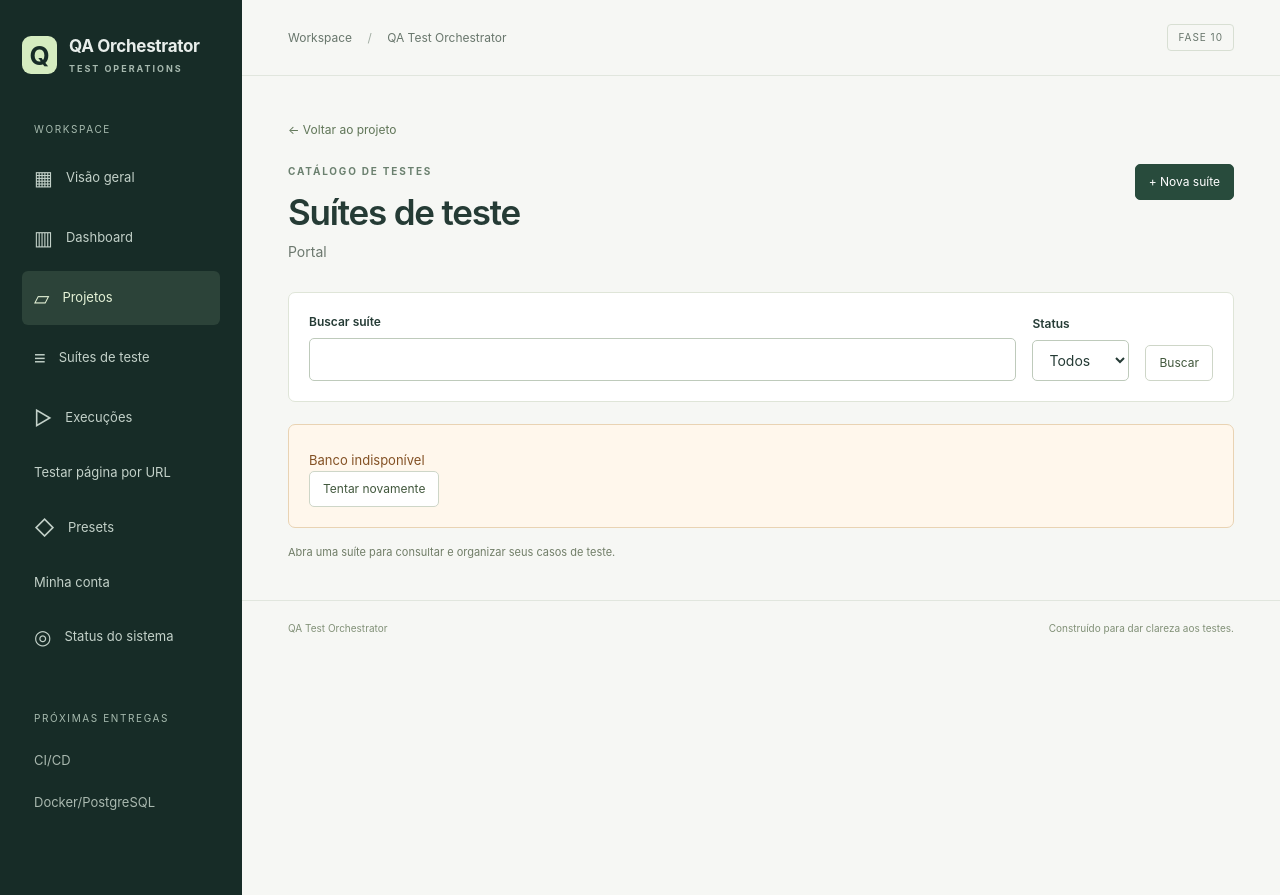
Scenario: mostra falha e permite recarregar a listagem
Expected: the message shows "Banco indisponível", [309,452,424,468]
Click the button "Tentar novamente": click(374, 488) [309,470,439,506]
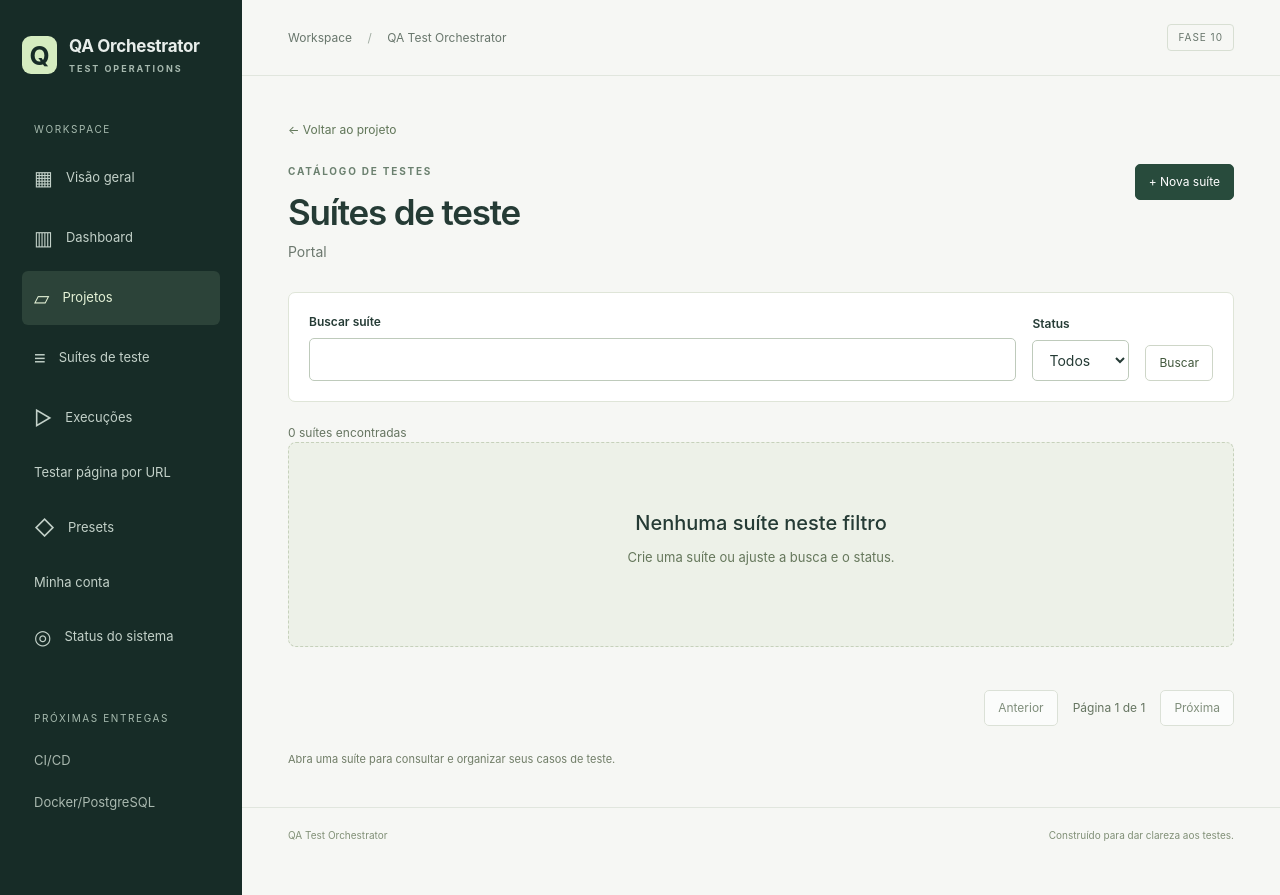
Result: the heading "Nenhuma suíte neste filtro" is shown at [635,511,887,535]
